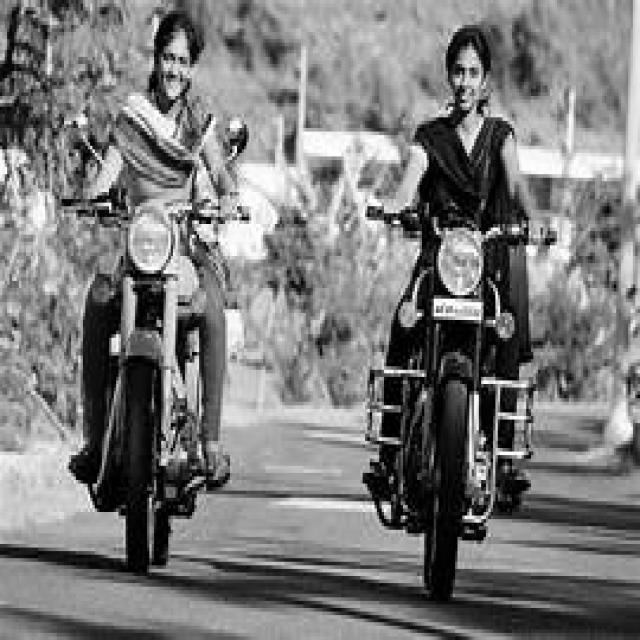Two Wheeler: (364, 218, 533, 599), (64, 197, 220, 571), (364, 207, 417, 233), (65, 115, 97, 157), (226, 118, 247, 155), (225, 197, 251, 224)
